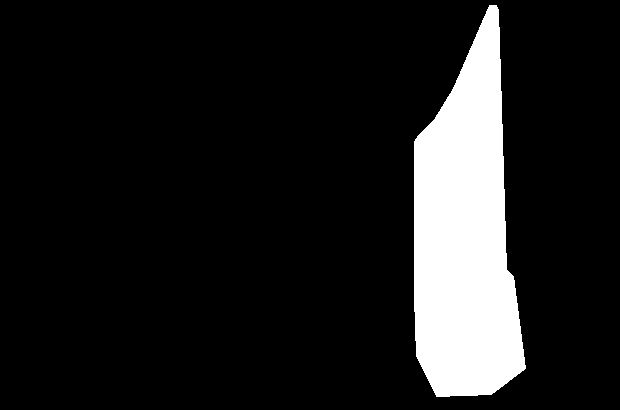type3s: (411, 3, 530, 399)
